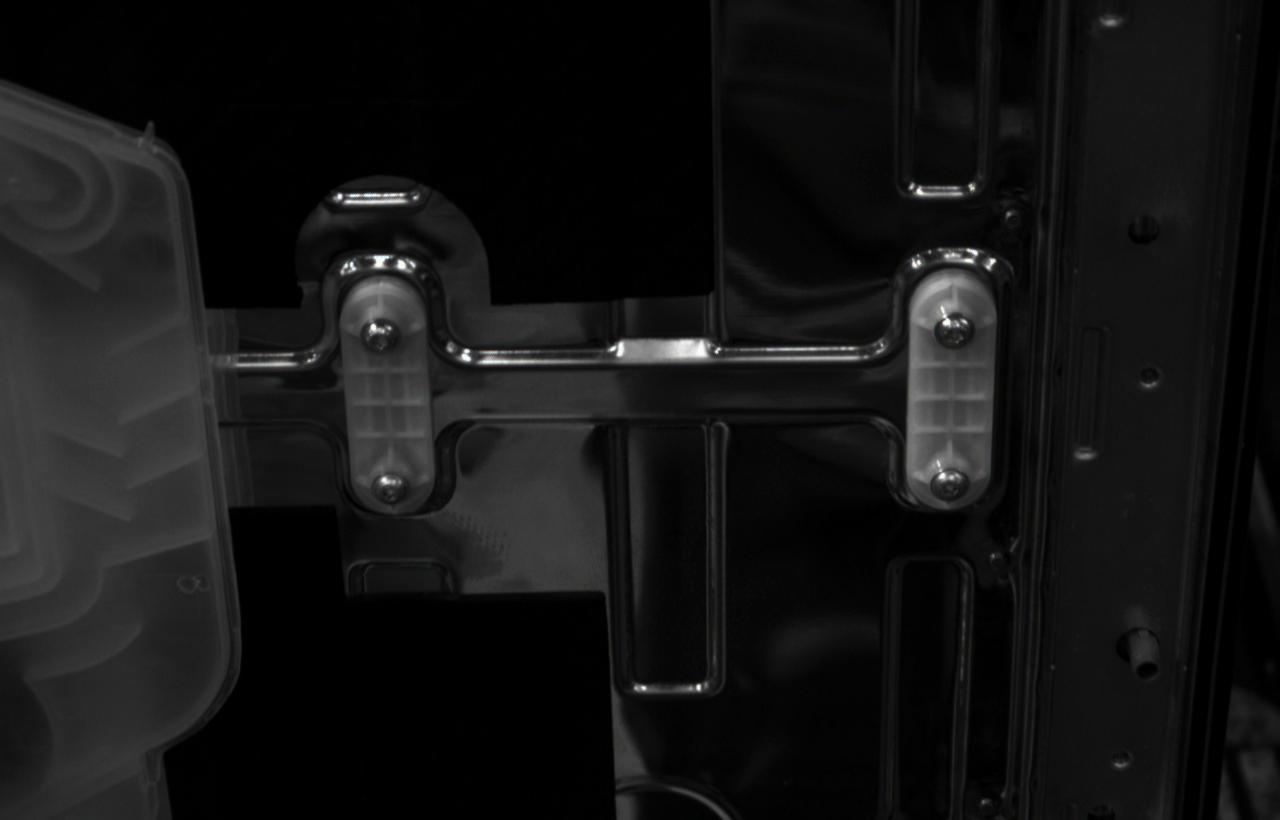vida-ok: (360, 317, 401, 356), (934, 313, 976, 351), (929, 468, 971, 503), (371, 472, 411, 506)
